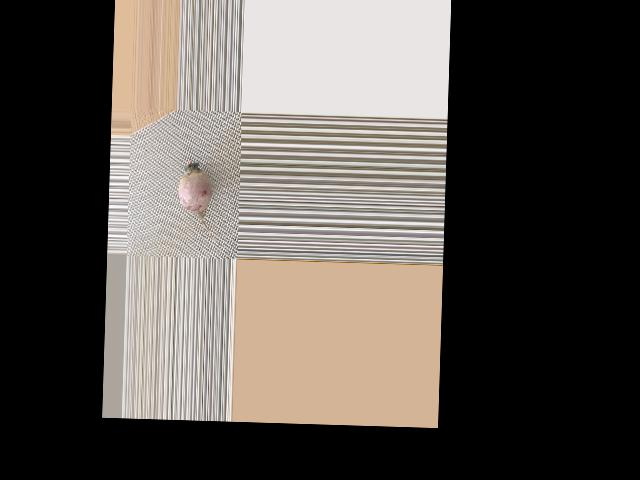beet: (177, 159, 226, 248)
